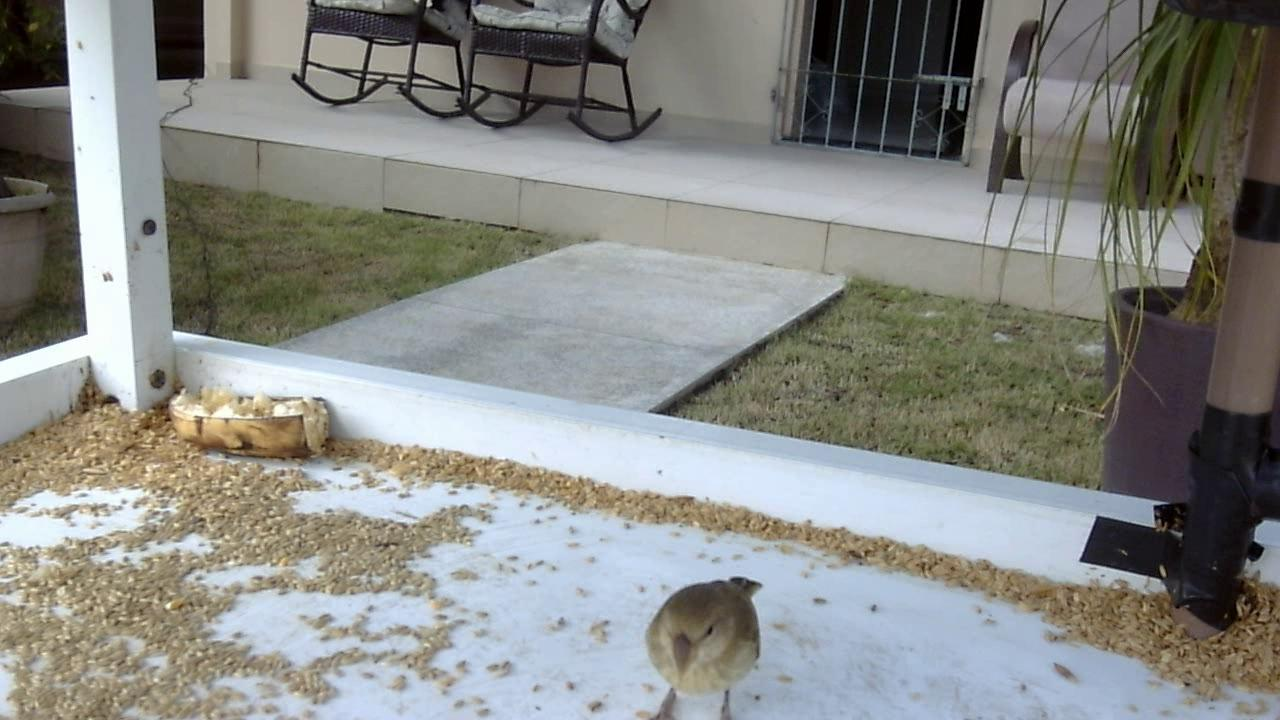canario_do_amazonas: (638, 568, 770, 720)
